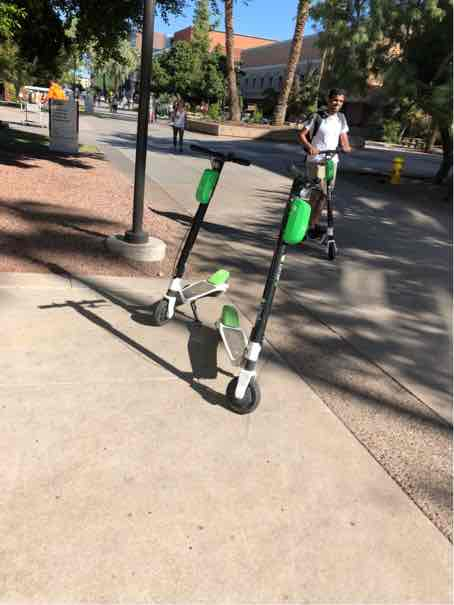scooter: (221, 147, 355, 430), (141, 156, 256, 392)
